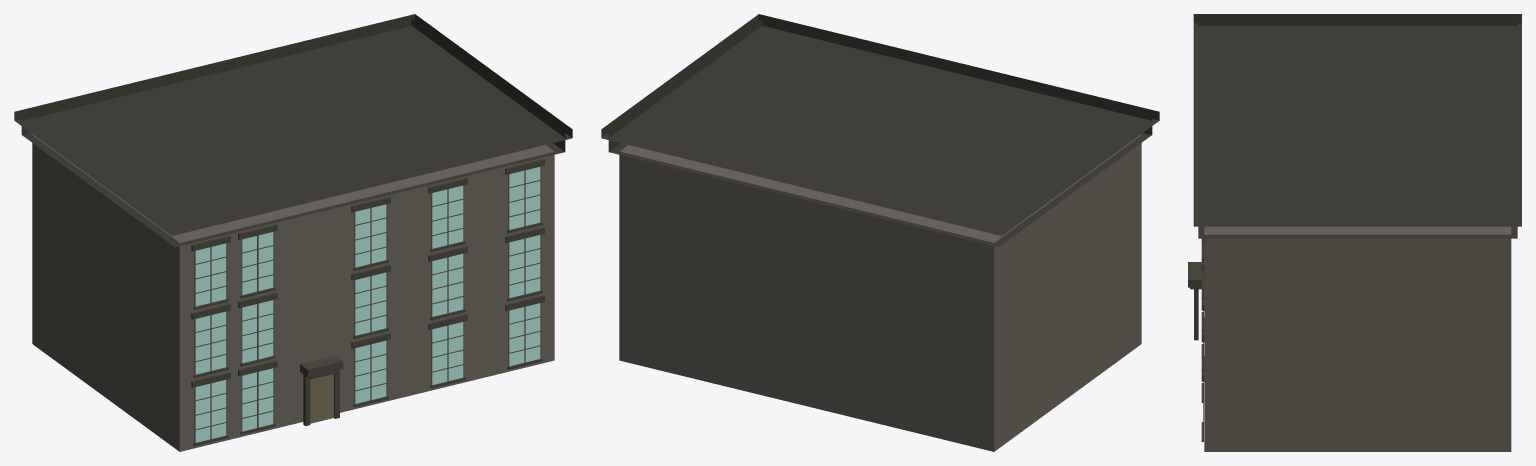
Rendered from Building 2.fbx.
3 views of the same model, side by side, from view 1: azimuth 30°, elevation 25°; view 2: azimuth 150°, elevation 25°; view 3: azimuth 270°, elevation 25° (orthographic). The views are drawn at different scales.
Visible parts, largest first — view 1: Cube.038; view 2: Cube.038; view 3: Cube.038.
Part boxes in pixels (bbox=[...]): Cube.038: bbox=[14, 14, 572, 451]; Cube.038: bbox=[601, 14, 1159, 451]; Cube.038: bbox=[1188, 14, 1521, 451].
Bounding box in the file's own units: 6768 × 3739 × 4693.
